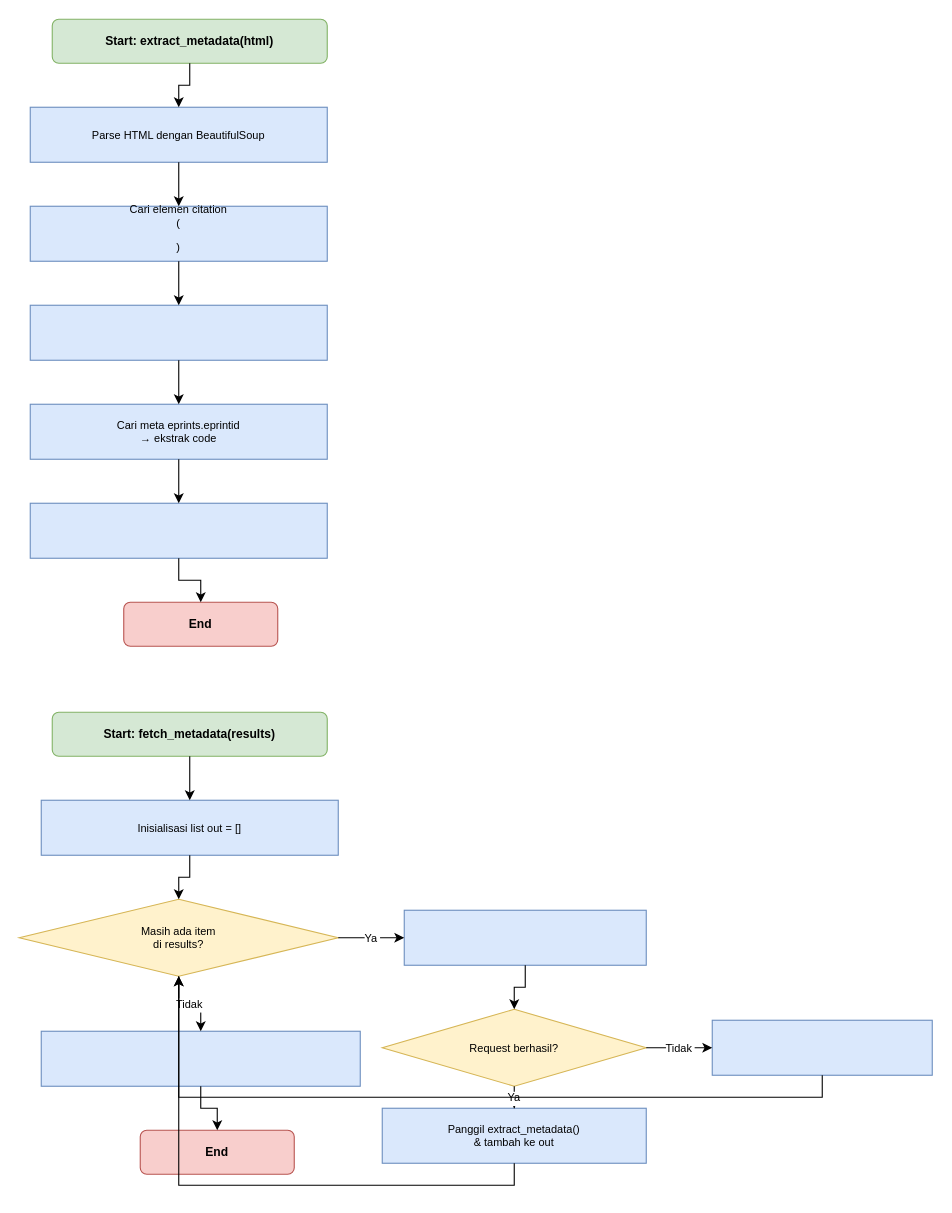
Some shapes in this 952 by 1213 pixel diagram are drawn without their labels. The centre of each missing label's shape, as x and y in pixels:
"Cari elemen abstract ( Abstract → )" belongs at (178,332).
"HTTP GET halaman paper (timeout=10s)" belongs at (524,937).
"Print error, lanjut iterasi" belongs at (821,1047).
"Return out" belongs at (200,1058).
"Return {citation, abstract, code}" belongs at (178,530).
